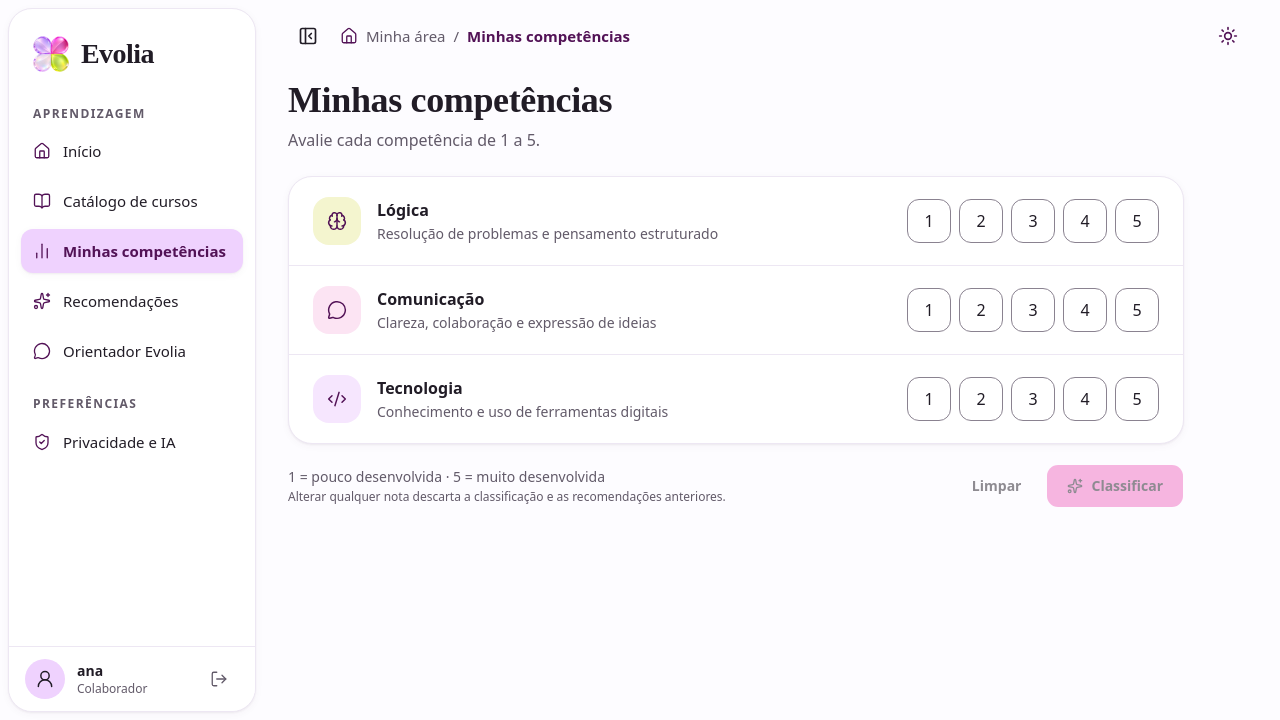
Test: recomendações › renderiza justificativas e fontes como texto puro
Expected: the button "Classificar" is shown, [1046,464,1184,508]
Step 1. Click the radio button labelled "2" in the row of "Lógica" → (981, 221), box [959,199,1003,243]
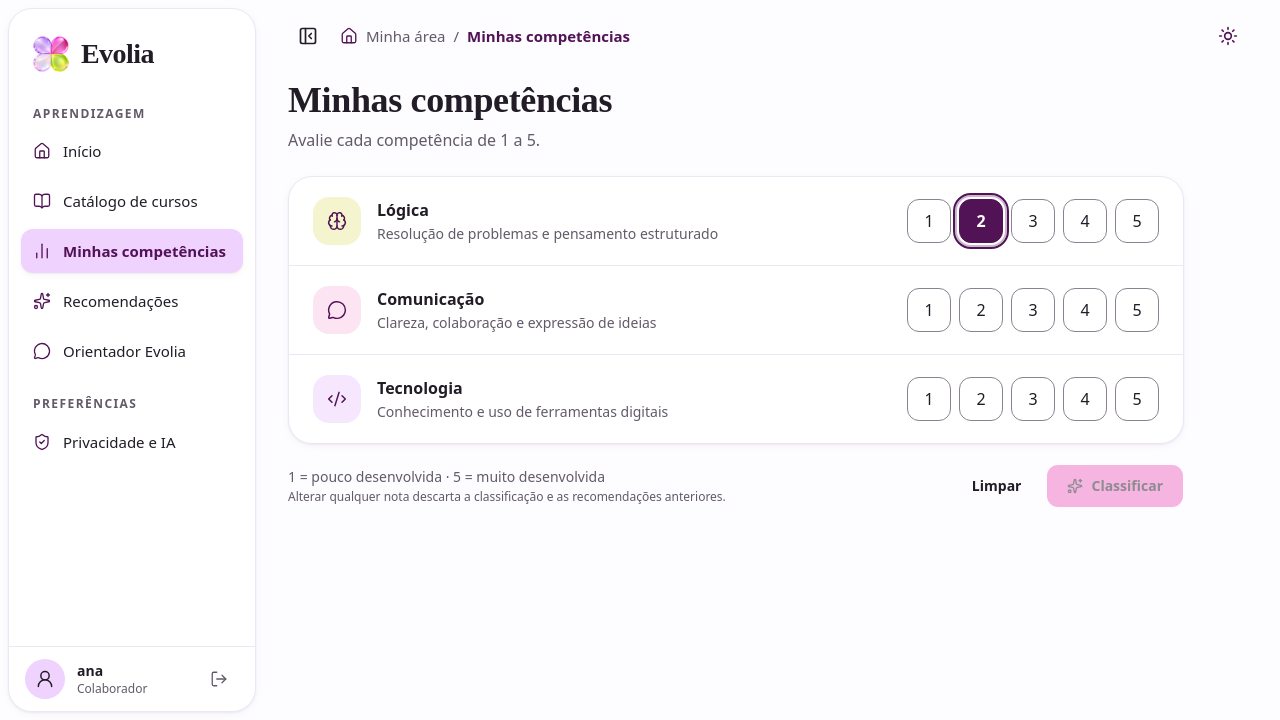
Step 2. Click the radio button labelled "4" in the row of "Comunicação" → (1085, 310), box [1063,288,1107,332]
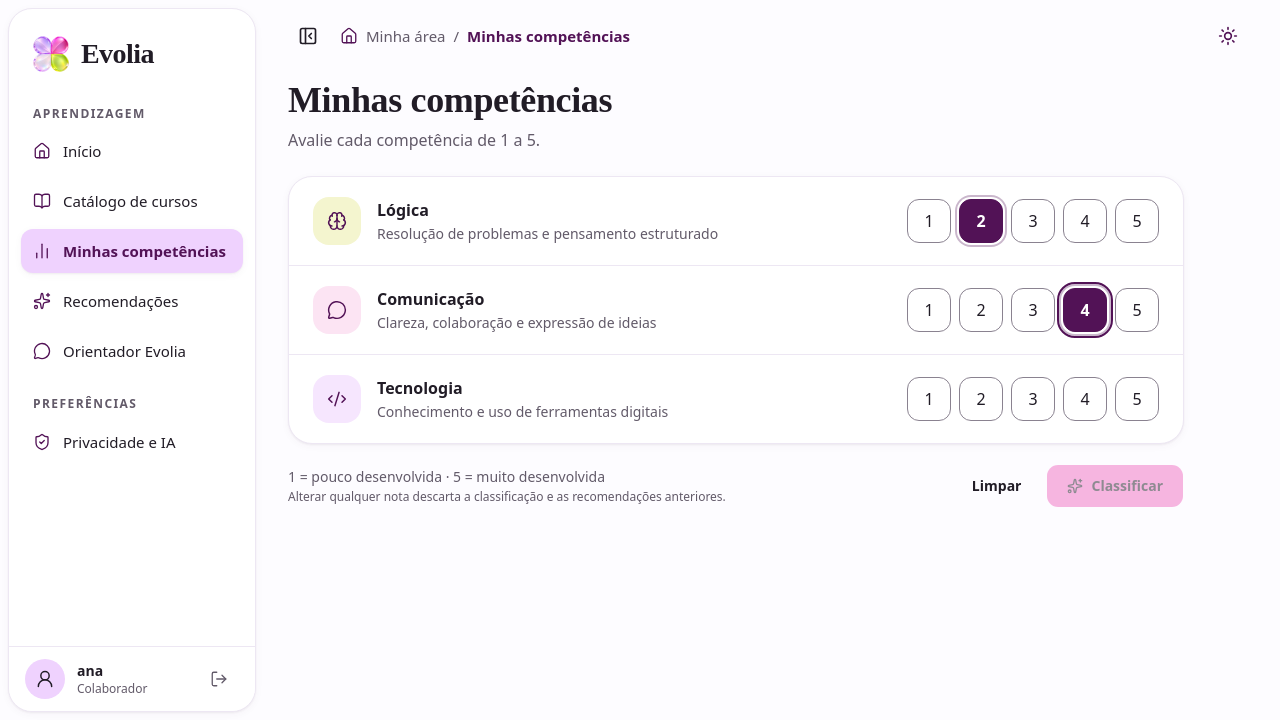
Step 3. Click the radio button labelled "3" in the row of "Tecnologia" → (1033, 399), box [1011,377,1055,421]
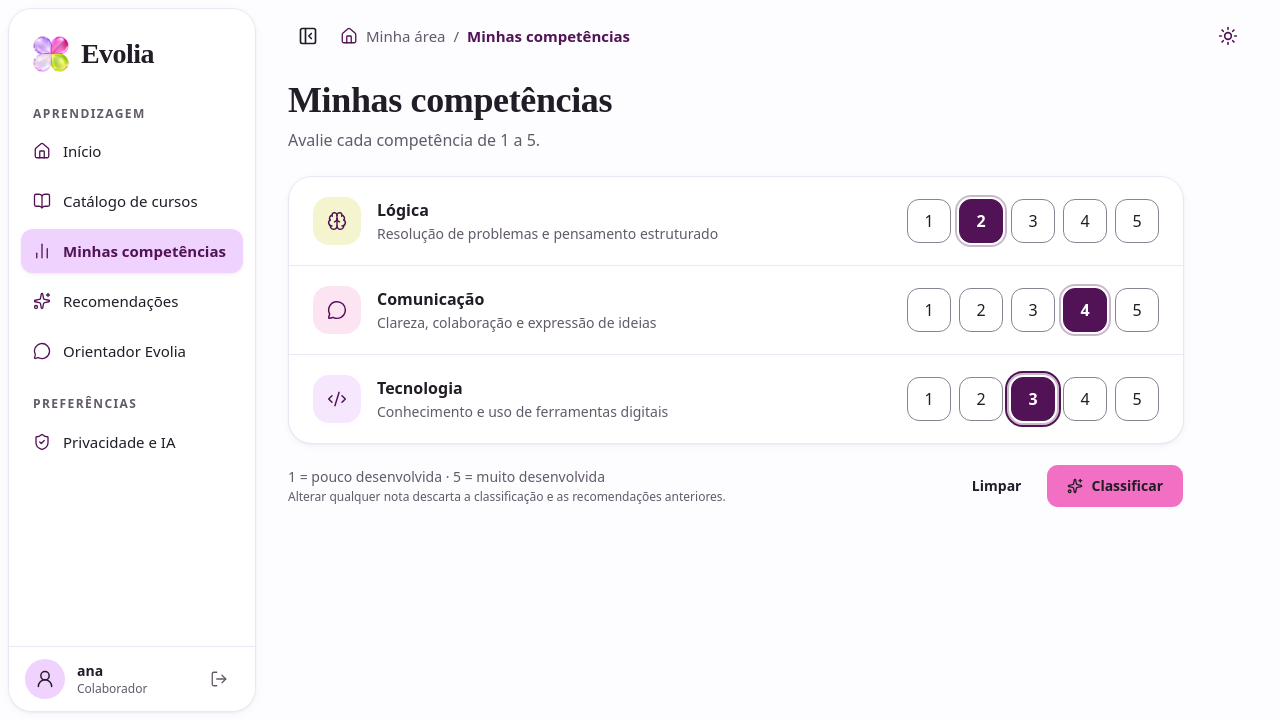
Step 4. Click the button "Classificar" → (1115, 486), box [1046,464,1184,508]
(page scrolled)
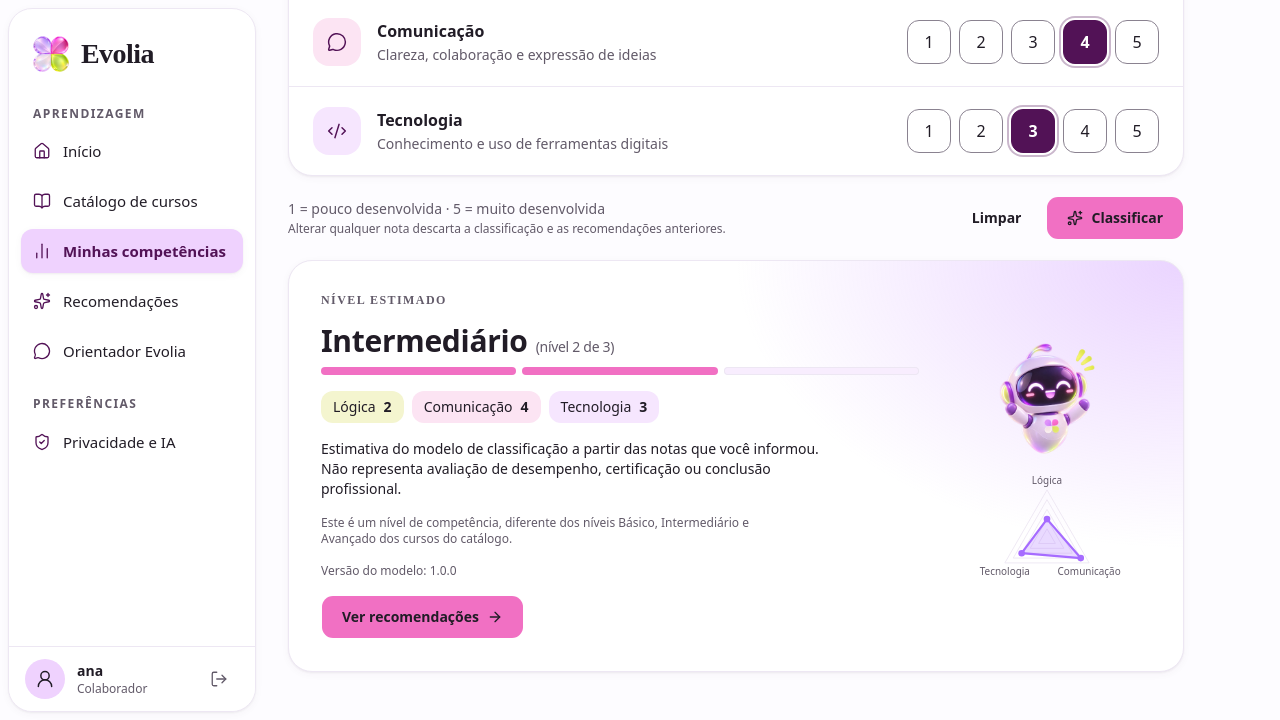
Step 5. Click the link "Ver recomendações" → (422, 617), box [321,595,524,639]
(page scrolled)
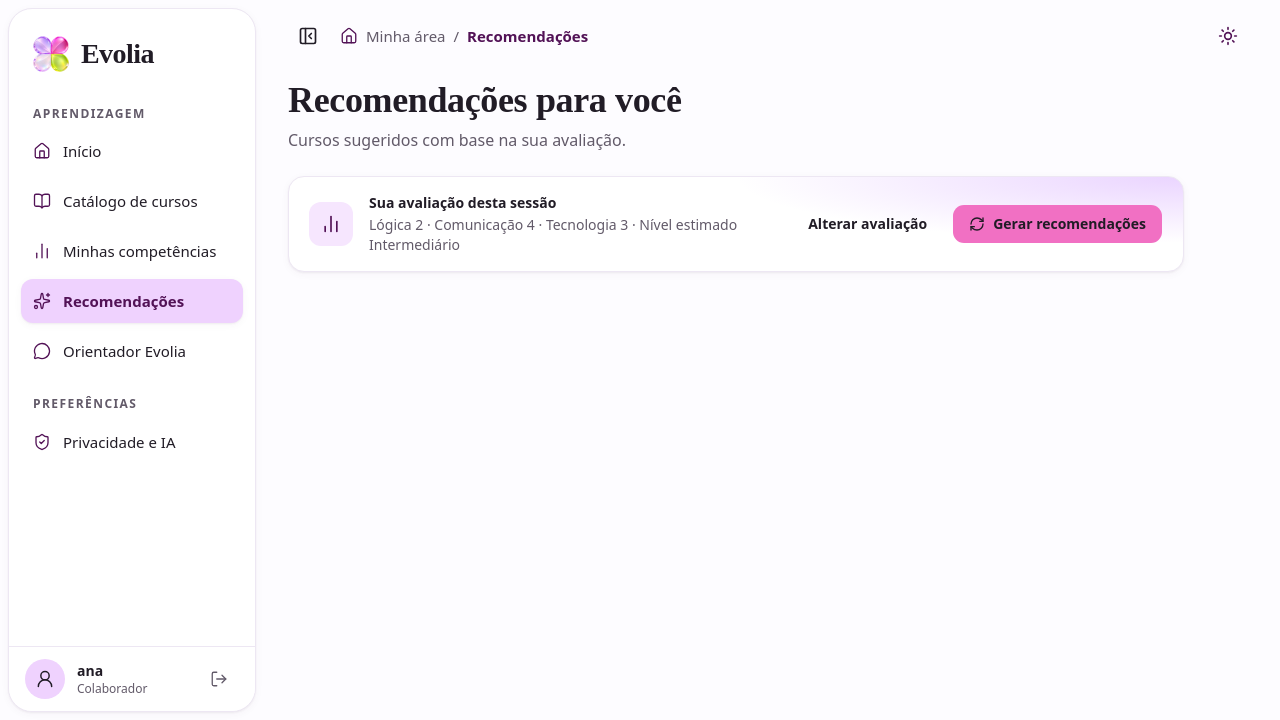
Expected: the heading "Recomendações para você" is shown, [288,80,682,120]
Step 6. Click the button "Gerar recomendações" → (1058, 224), box [952,204,1163,244]
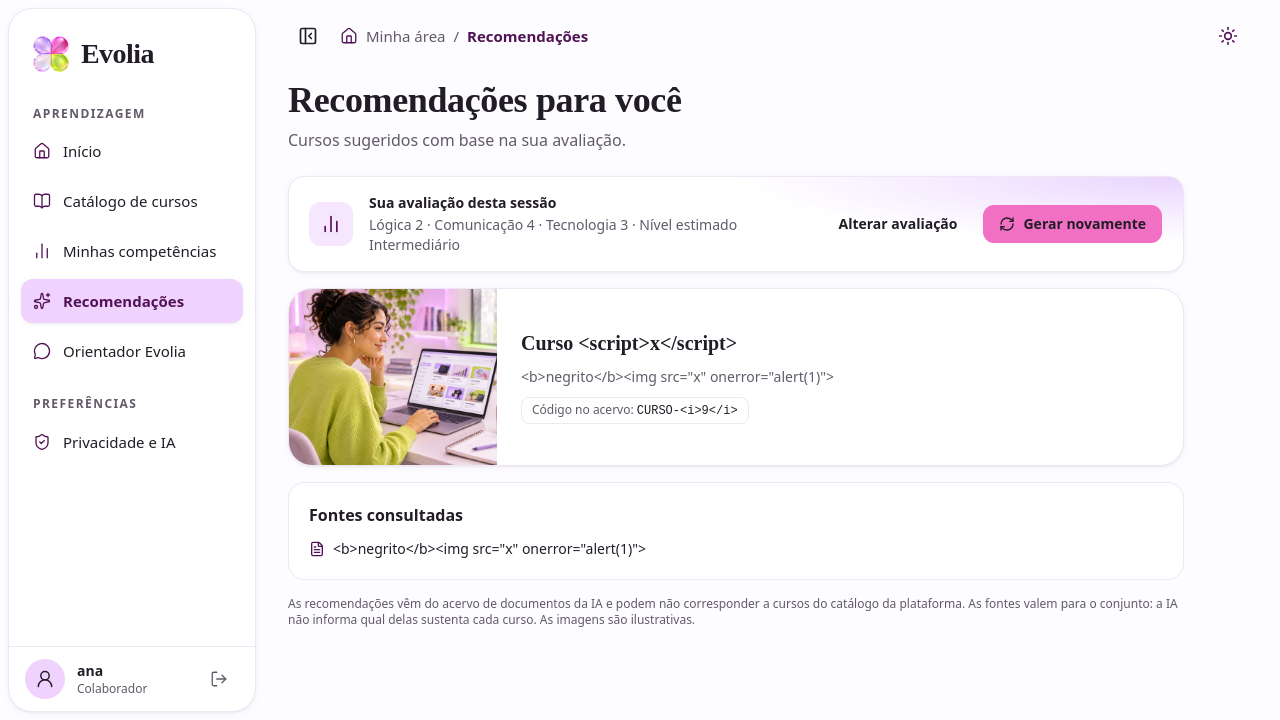
Expected: the text "<b>negrito</b><img src=\"x\" onerror=\"alert(1)\">" below "Curso <script>x</script>" is shown, [521,367,834,386]
Expected: the heading "Curso <script>x</script>" is shown, [521,332,737,354]
